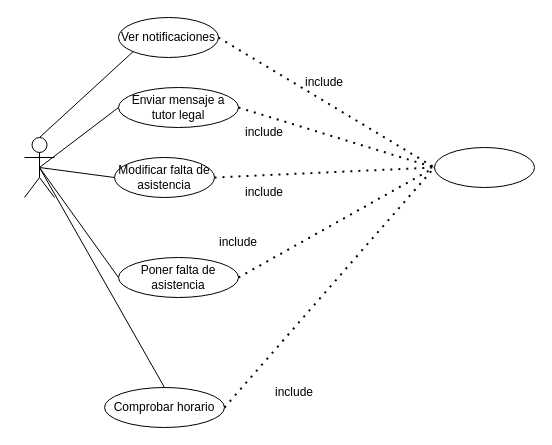
This 552x445 diagram has some shape labels left out. Here are the shapes that lost their labels. From the top down, the centre of each, then its label:
At (39,167): "Profesor".
At (484,167): "iniciar sesion".
